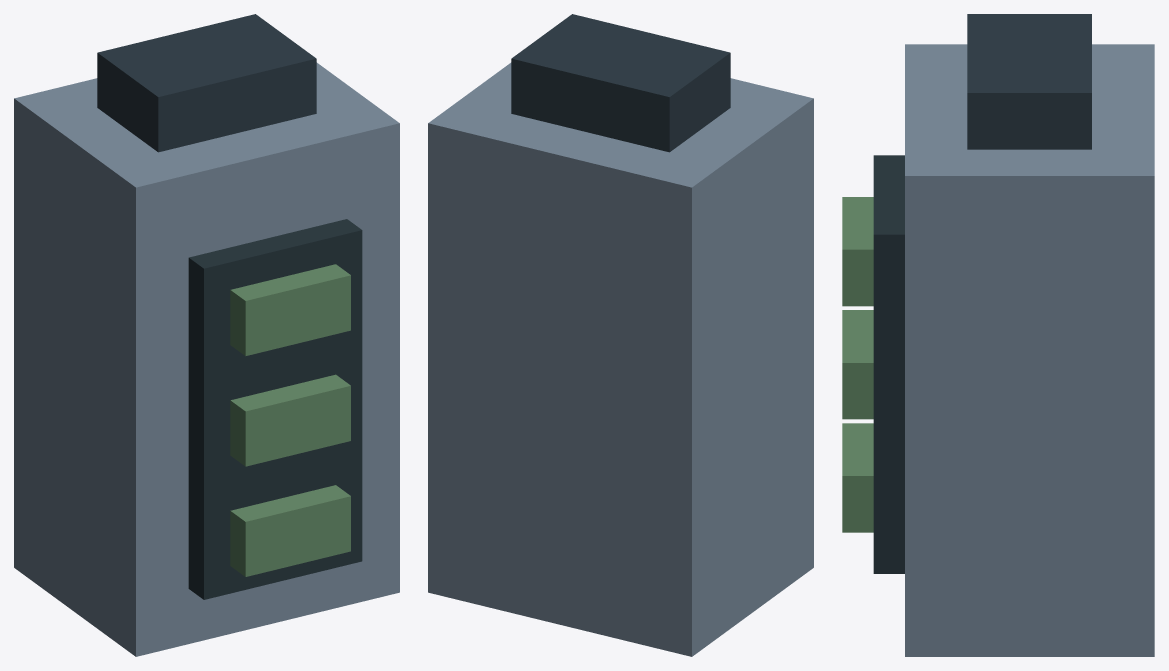
File: physics-14.glb
3 renders of one model, left to right at view 1: azimuth 30°, elevation 25°; view 2: azimuth 150°, elevation 25°; view 3: azimuth 270°, elevation 25°, orthographic. The views are drawn at different scales.
Visible parts, largest first — view 1: Lab power supply; view 2: Lab power supply; view 3: Lab power supply.
Part boxes in pixels (<box>): Lab power supply: <box>14,14,399,656</box>; Lab power supply: <box>428,14,813,656</box>; Lab power supply: <box>842,14,1154,656</box>.
Size of the model in its own units: 0.8 by 1.52 by 0.8.
